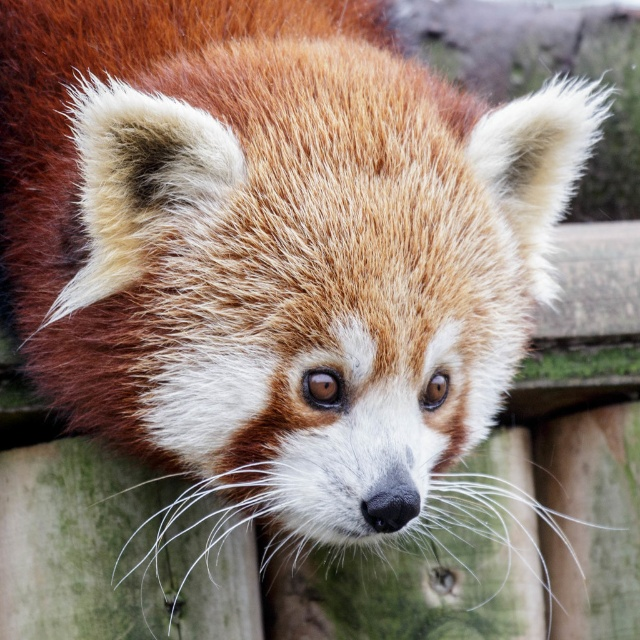Red panda: (0, 0, 629, 640)
